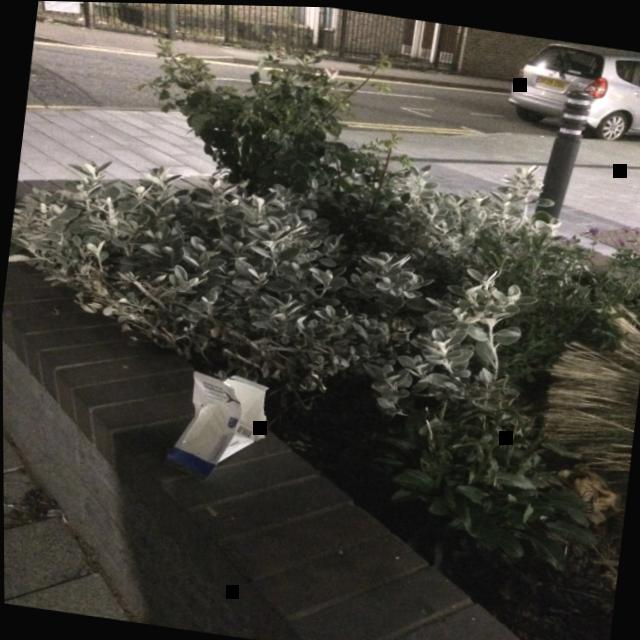Meal carton: (161, 369, 267, 478)
Plastic film: (181, 401, 223, 455)
